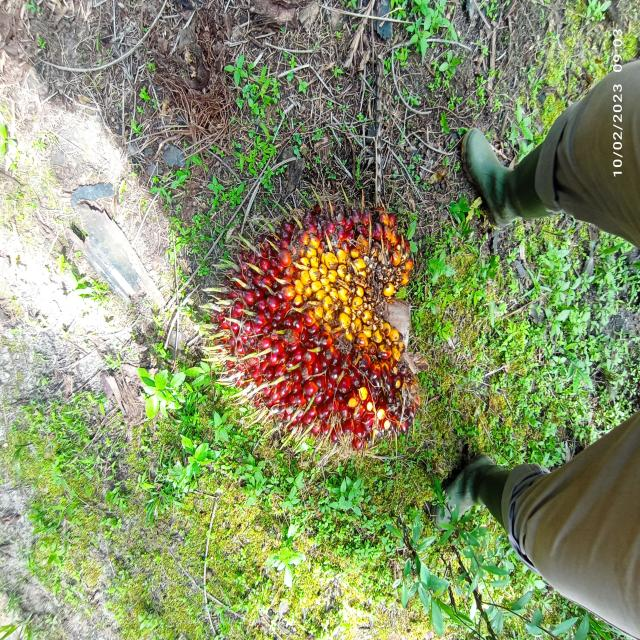fraksi 3: (180, 182, 461, 462)
